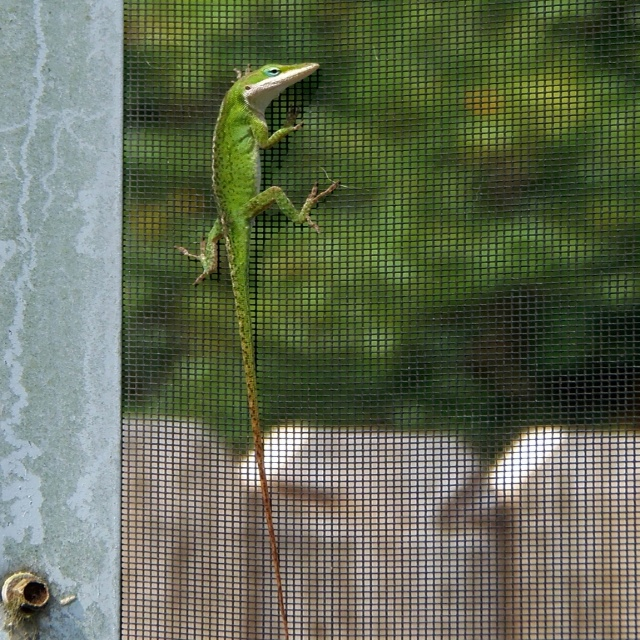Lizard: (176, 60, 341, 616)
